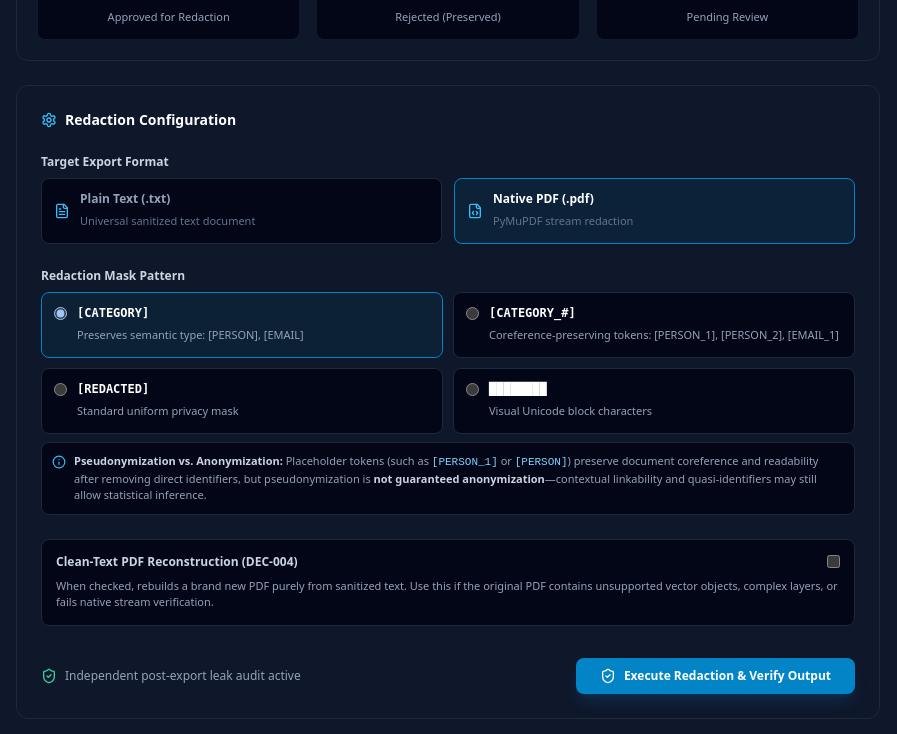
Test: ExportView Page › allows user to explicitly trigger clean-text reconstruction after native verification failure and promotes to VERIFIED on pass
The image size is (897, 734).
(page scrolled)
Expected: the text "Execute Redaction & Verify Output" is shown, [624,668,831,684]
Click the button "Execute Redaction & Verify Output" at (715, 676), box [576,658,855,694]
(page scrolled)
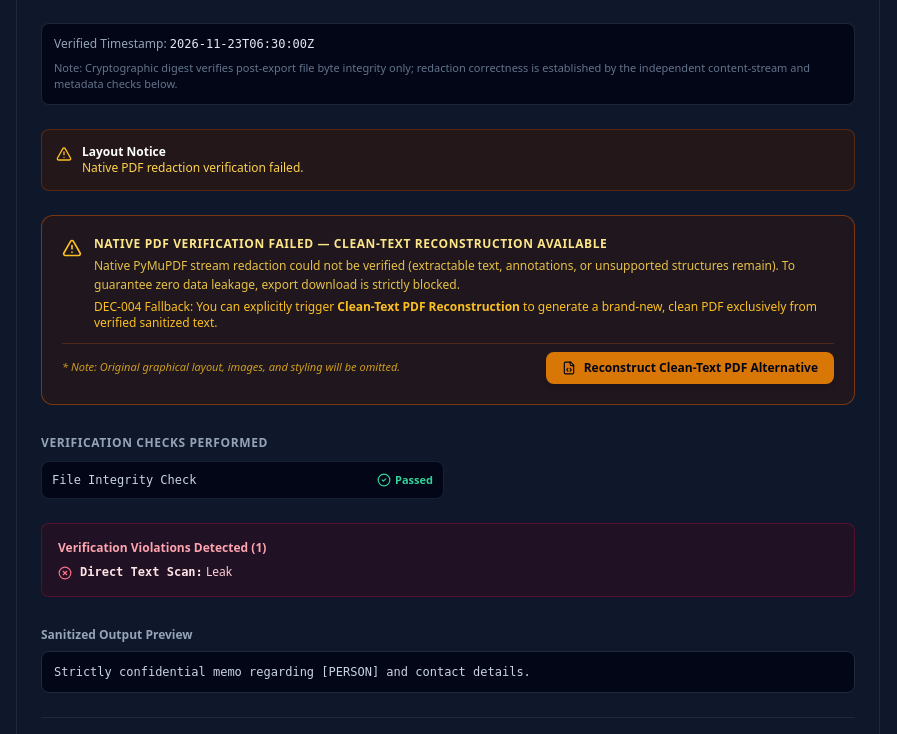
Expected: the text "Reconstruct Clean-Text PDF Alternative" is shown, [584,360,818,376]
Explicitly click clean-text reconstruction button
Click the button "Reconstruct Clean-Text PDF Alternative" at (690, 368), box [546,352,834,384]
(page scrolled)
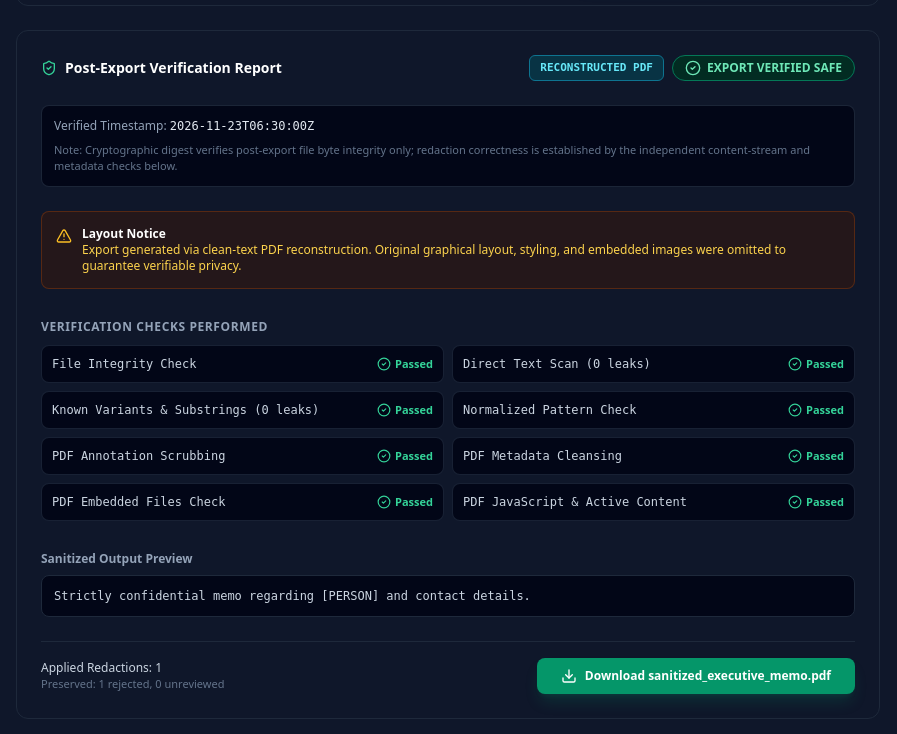
Expected: the text "EXPORT VERIFIED SAFE" is shown, [672,55,855,81]
Expected: the text "Download sanitized_executive_memo.pdf" is shown, [585,668,831,684]
